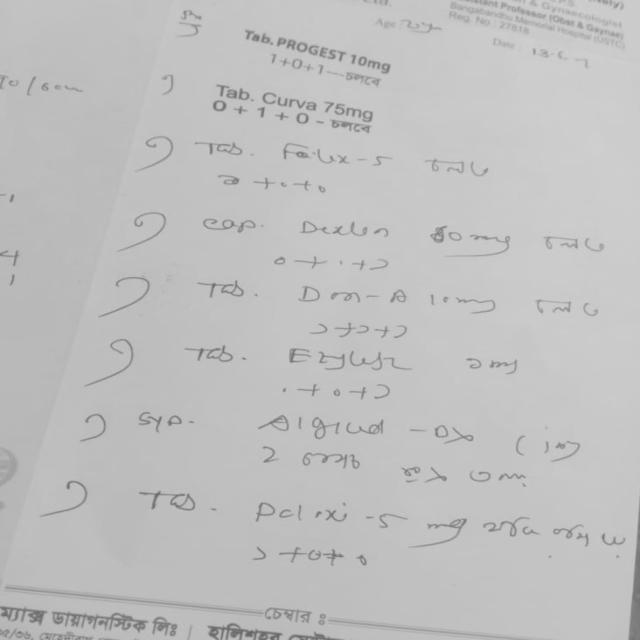Algicid DX: (260, 412, 476, 447)
Dexlan: (295, 212, 402, 245)
Don A: (292, 278, 417, 313)
Ezylife: (277, 340, 413, 385)
Folix: (268, 136, 356, 172)
Paloxi: (248, 495, 355, 538)
